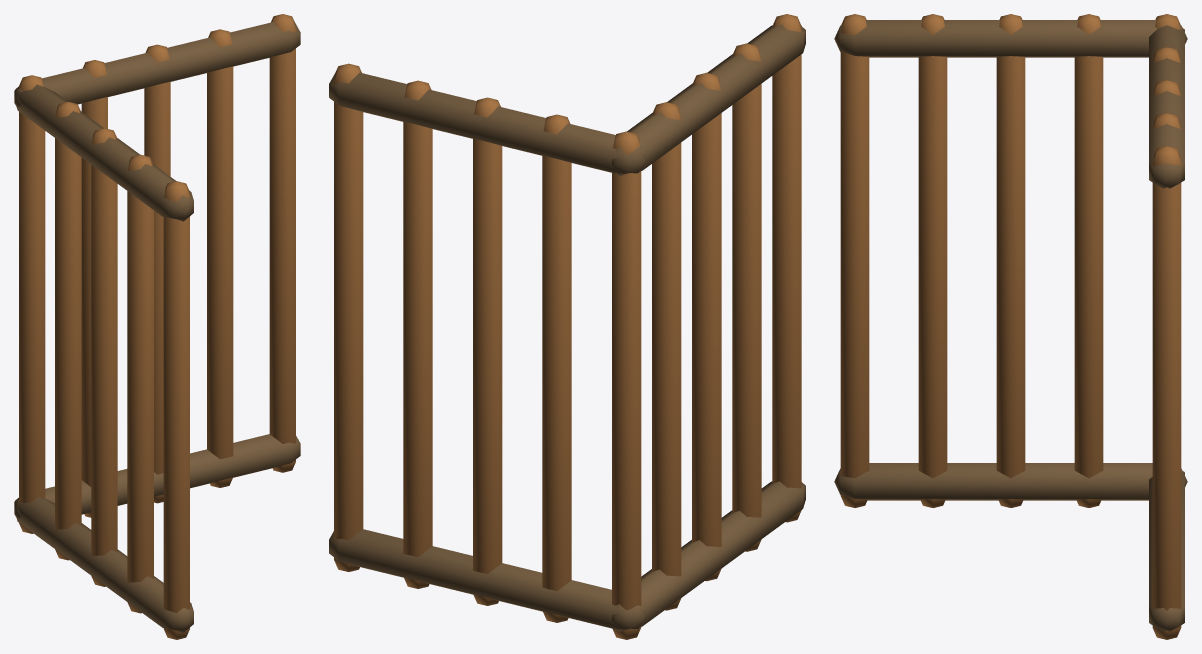
Rendered from prop_cageob_77fc.glb.
The picture shows the model from 3 angles, left to right: view 1: azimuth 30°, elevation 25°; view 2: azimuth 150°, elevation 25°; view 3: azimuth 270°, elevation 25°; orthographic projection. The views are drawn at different scales.
Parts seen in each view (by area): view 1: prop_cageob_77fc; view 2: prop_cageob_77fc; view 3: prop_cageob_77fc.
Boxes of the visible parts, x1=… form: prop_cageob_77fc: x1=14, y1=14, x2=300, y2=639; prop_cageob_77fc: x1=329, y1=14, x2=805, y2=639; prop_cageob_77fc: x1=834, y1=14, x2=1187, y2=639.
Bounding box in the file's own units: 0.9015 × 1.39 × 0.9015.
1 material, 1 textured.
